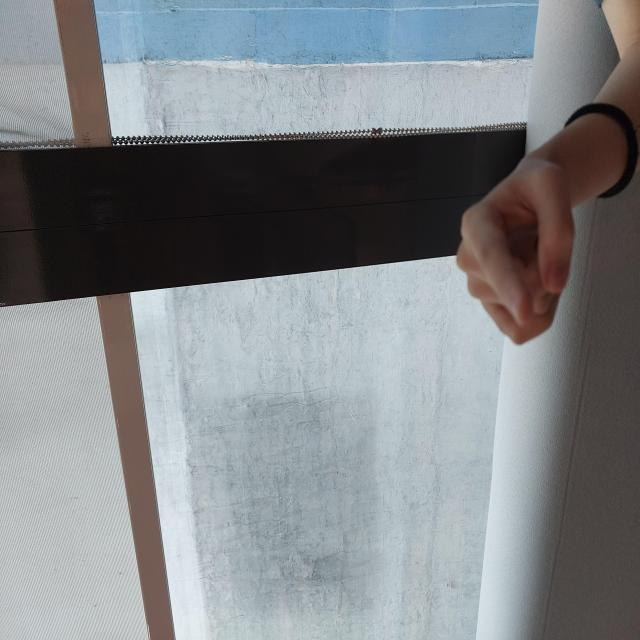Z: (294, 456, 484, 577)
